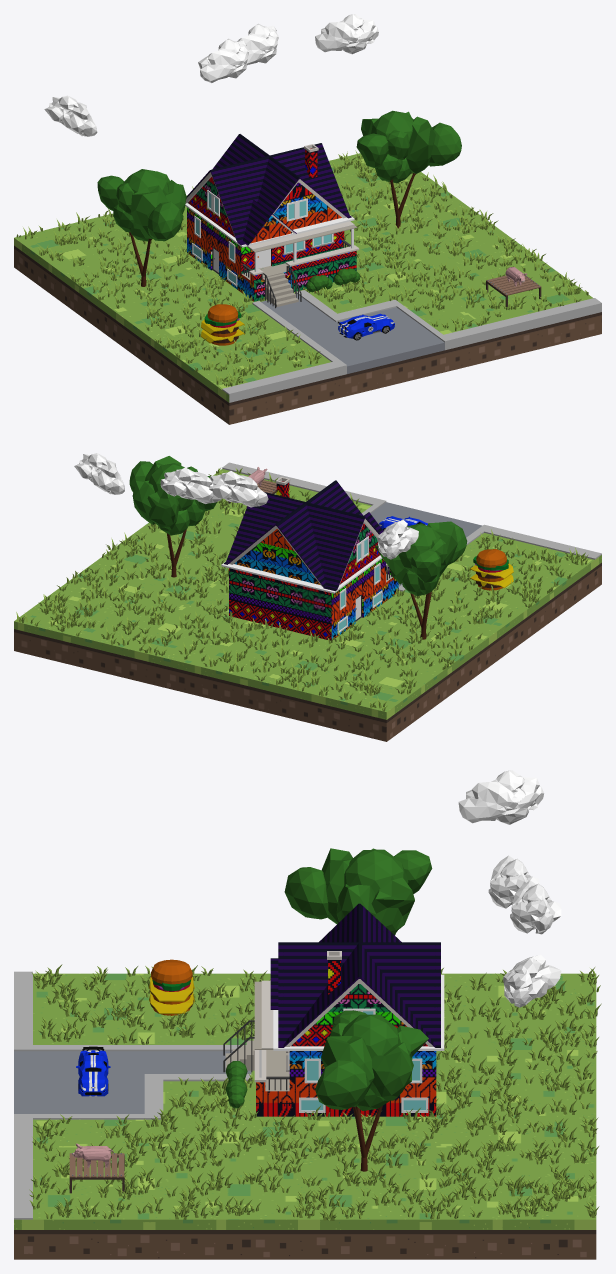
3 renders of one model, top to bottom at view 1: azimuth 30°, elevation 25°; view 2: azimuth 150°, elevation 25°; view 3: azimuth 270°, elevation 25°, orthographic. The views are drawn at different scales.
Visible parts, largest first — view 1: Cube.006, Cube.966, Circle.012_Grass_0.192, Cube.007, tree, tree.001, OBJRANDOM_HAMBURGER, VEHICLES_RACING_CAR, Cube.009; view 2: Cube.006, Cube.966, Circle.012_Grass_0.192, Cube.007, tree.001, tree, OBJRANDOM_HAMBURGER; view 3: Cube.006, Circle.012_Grass_0.192, Cube.966, tree, Cube.007, tree.001, OBJRANDOM_HAMBURGER, VEHICLES_RACING_CAR, Cube.009.
Boxes of the visible parts, box(x1,y1,x2,y2) form: Cube.006: box(14, 153, 601, 424); Cube.966: box(185, 134, 359, 308); Circle.012_Grass_0.192: box(16, 150, 588, 386); Cube.007: box(44, 14, 378, 136); tree: box(356, 110, 461, 228); tree.001: box(97, 169, 186, 286); OBJRANDOM_HAMBURGER: box(201, 304, 244, 345); VEHICLES_RACING_CAR: box(338, 313, 394, 340); Cube.009: box(486, 275, 541, 306); Cube.006: box(14, 462, 601, 741); Cube.966: box(221, 477, 398, 640); Circle.012_Grass_0.192: box(16, 468, 588, 711); Cube.007: box(74, 453, 418, 559); tree.001: box(375, 521, 467, 639); tree: box(129, 456, 216, 577); OBJRANDOM_HAMBURGER: box(469, 549, 513, 590); Cube.006: box(14, 971, 596, 1259); Circle.012_Grass_0.192: box(29, 964, 601, 1220); Cube.966: box(223, 903, 444, 1116); tree: box(315, 1010, 428, 1171); Cube.007: box(458, 770, 561, 1007); tree.001: box(284, 848, 432, 935); OBJRANDOM_HAMBURGER: box(149, 959, 194, 1015); VEHICLES_RACING_CAR: box(76, 1046, 110, 1096); Cube.009: box(69, 1153, 124, 1193).
Bounding box in the file's own units: 4071 × 2175 × 4040.
Materials: 43 (7 with a texture image).
